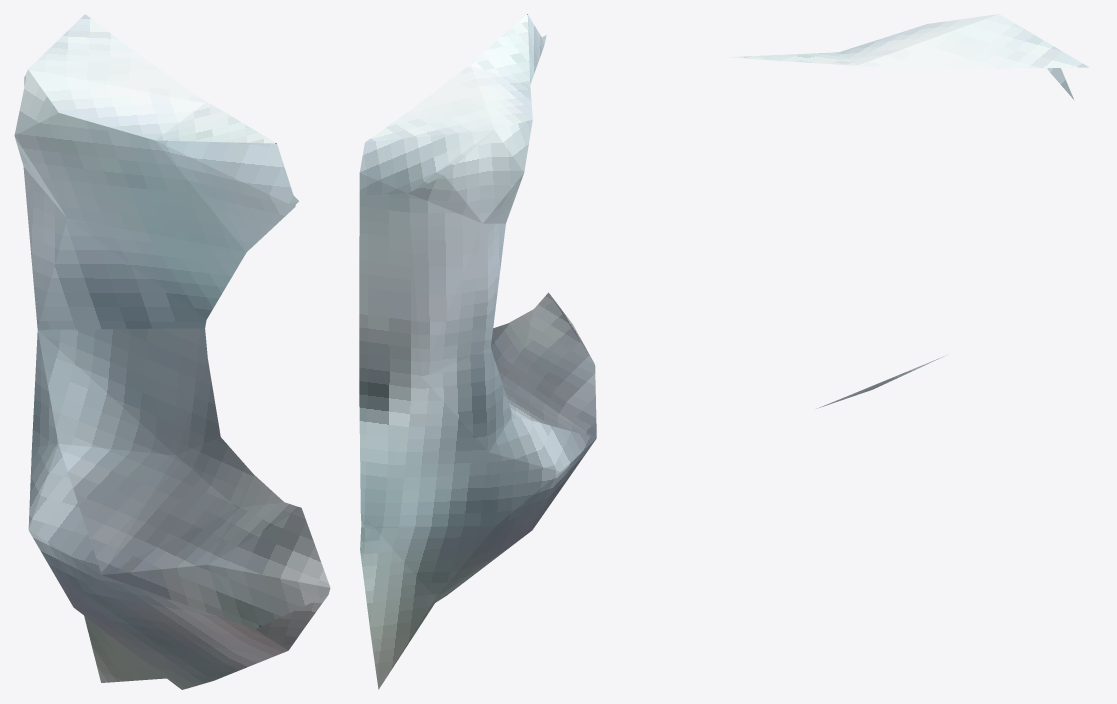
File: Tile__004__001_L22_00042110.glb
3 views of the same model, side by side, from view 1: azimuth 30°, elevation 25°; view 2: azimuth 150°, elevation 25°; view 3: azimuth 270°, elevation 25° (orthographic). The views are drawn at different scales.
Visible parts, largest first — view 1: root; view 2: root; view 3: root.
Boxes of the visible parts, left/top/right/bottom form: root: left=14, top=14, right=330, bottom=689; root: left=359, top=14, right=596, bottom=689; root: left=729, top=14, right=1089, bottom=408.
Bounding box in the file's own units: 0.3017 × 1.34 × 0.9158.
1 material, 1 textured.
